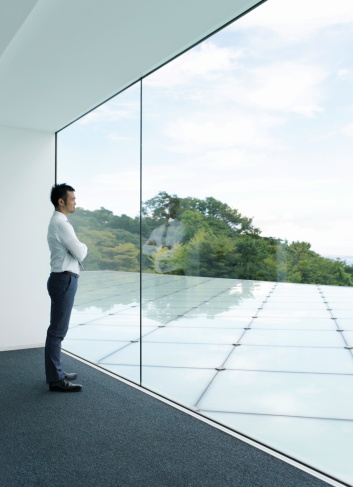em pe: (32, 175, 95, 385)
